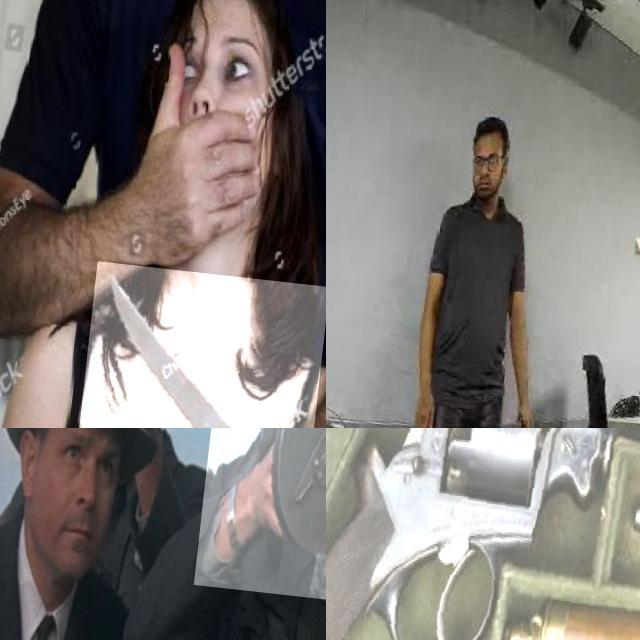-: (82, 254, 326, 428)
gun-knife-thesis - v11 Yolov5 augmented: (326, 428, 640, 640), (203, 428, 326, 612)
